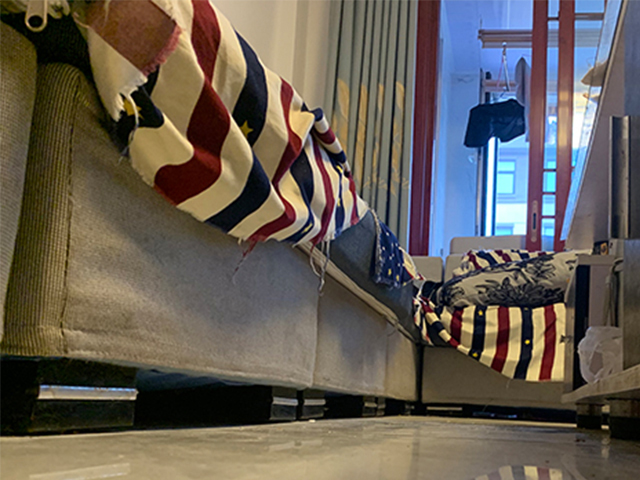curtain: (331, 1, 420, 253)
sofa: (1, 1, 417, 433), (421, 235, 577, 421)
table: (564, 1, 640, 442)
